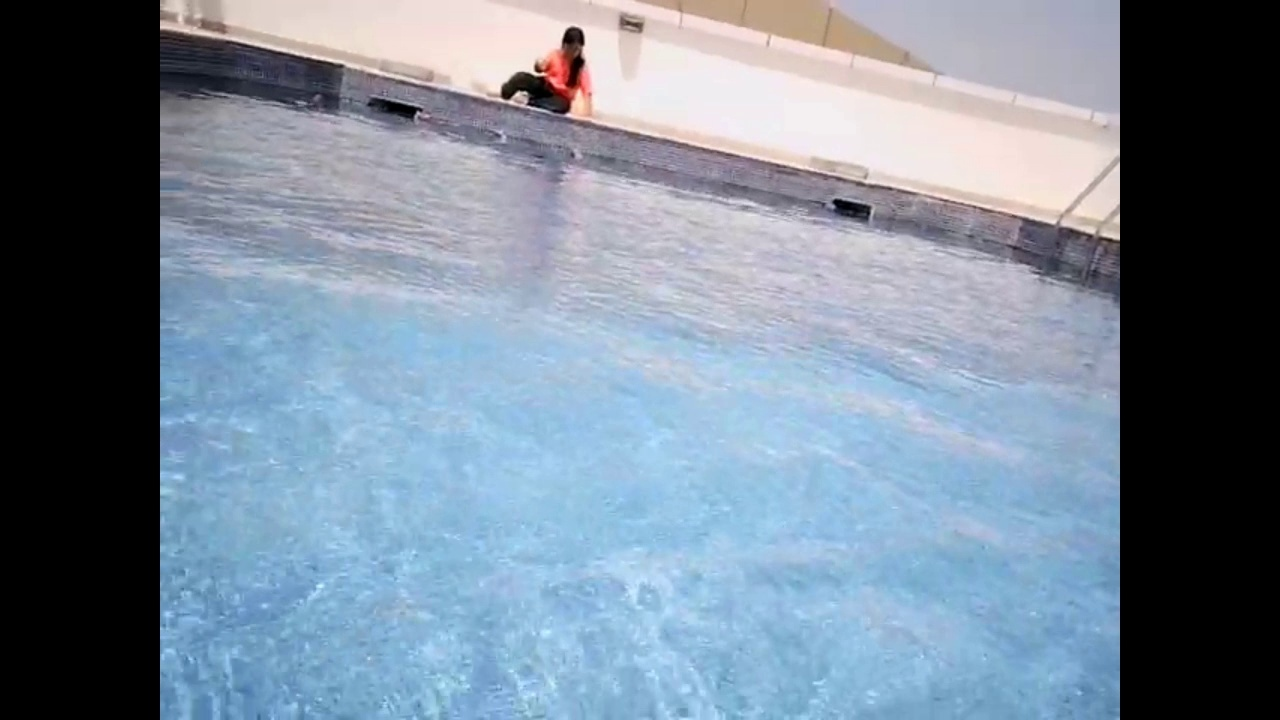debris: (482, 123, 506, 142), (410, 107, 434, 126), (818, 195, 838, 211), (562, 146, 582, 161), (310, 90, 326, 107)
